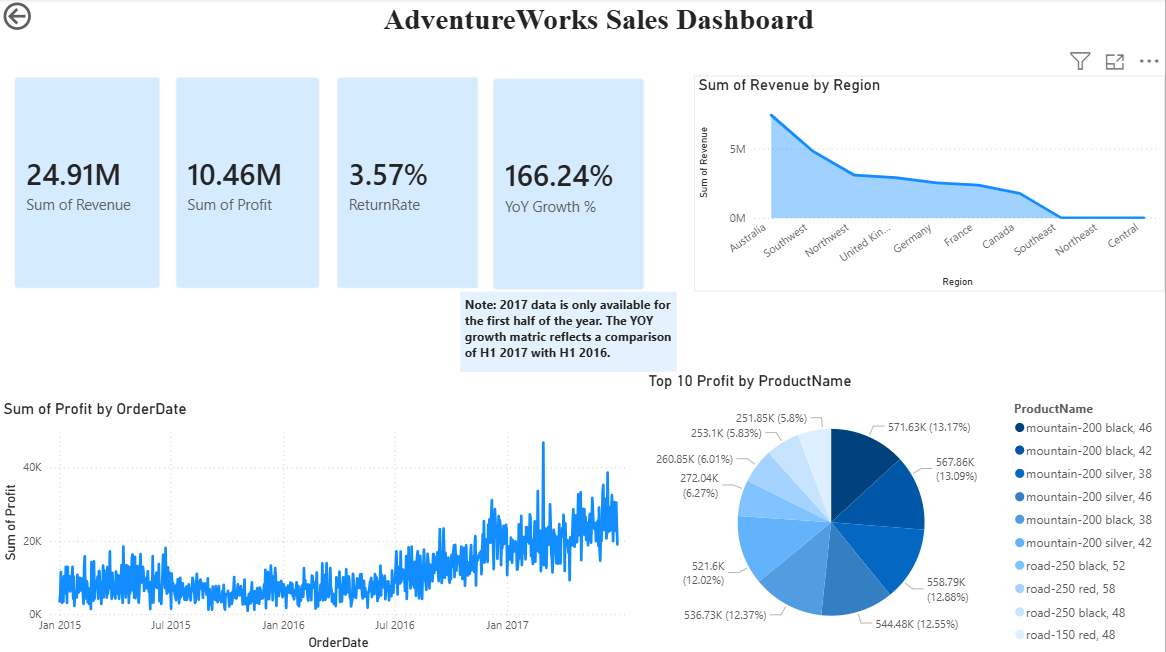

The page's visual inventory and layout, read from the dashboard file:
{"tool":"powerbi","page":{"name":"Page 1","canvas":[1280,720],"ordinal":0},"visuals":[{"type":"lineChart","fields":{"Y":["Sum(adventureworks sales_master.Profit)"],"Category":["adventureworks sales_master.OrderDate"]},"box":[0,440.5,708.1,279.9],"z":0},{"type":"areaChart","fields":{"Y":["Sum(adventureworks sales_master.Revenue)"],"Category":["adventureworks adventureworks_territories.Region"]},"box":[763,85.1,517.3,237.4],"z":2000},{"type":"cardVisual","fields":{"Data":["Sum(adventureworks sales_master.Revenue)"]},"box":[0,70,194.9,266.2],"z":3000},{"type":"cardVisual","fields":{"Data":["Sum(adventureworks sales_master.Profit)"]},"box":[177,70,192.1,266.2],"z":4000},{"type":"cardVisual","fields":{"Data":["adventureworks adventureworks_customers.ReturnRate"]},"box":[354,70,199,266.2],"z":5000},{"type":"textbox","box":[417.2,0,496.7,70],"z":6000},{"type":"cardVisual","fields":{"Data":["DateTable.YoY Growth %"]},"box":[525.6,71.4,200.3,266.2],"z":7000},{"type":"actionButton","box":[0,0,100,40],"z":8000},{"type":"textbox","box":[506.3,322.5,237.4,87.8],"z":9000},{"type":"pieChart","title":"Top 10 Profit by ProductName","fields":{"Category":["adventureworks sales_master.ProductName"],"Y":["Sum(adventureworks sales_master.Profit)"]},"box":[708.1,410.3,572.2,310.1],"z":9001}]}

Visuals, with their boxes in screenshot pixels (x1, y1, x2, y2), scaled from the page's 1280x720 canvas onto the 1166x652 screenshot:
lineChart - Sum(adventureworks sales_master.Profit) x adventureworks sales_master.OrderDate: 0:399:645:651
areaChart - Sum(adventureworks sales_master.Revenue) x adventureworks adventureworks_territories.Region: 695:77:1165:292
cardVisual - Sum(adventureworks sales_master.Revenue): 0:63:178:304
cardVisual - Sum(adventureworks sales_master.Profit): 161:63:336:304
cardVisual - adventureworks adventureworks_customers.ReturnRate: 322:63:504:304
textbox: 380:0:833:63
cardVisual - DateTable.YoY Growth %: 479:65:661:306
actionButton: 0:0:91:36
textbox: 461:292:677:372
"Top 10 Profit by ProductName" pieChart: 645:372:1165:651
